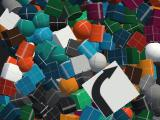Right: (82, 60, 140, 118)
